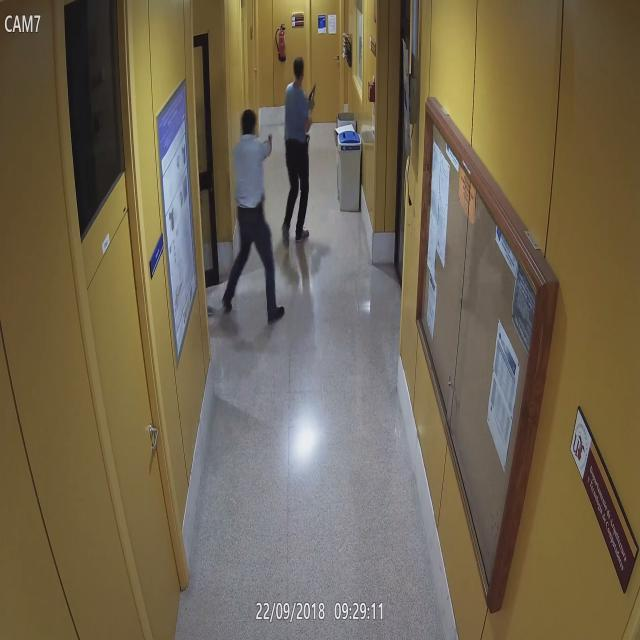Gun: (308, 81, 316, 110), (266, 132, 274, 152)
